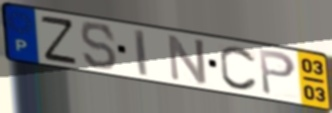C: (218, 44, 260, 92)
I: (132, 27, 150, 78)
N: (166, 32, 210, 87)
P: (257, 48, 298, 98)
S: (79, 21, 120, 72)
Z: (38, 14, 79, 66)
